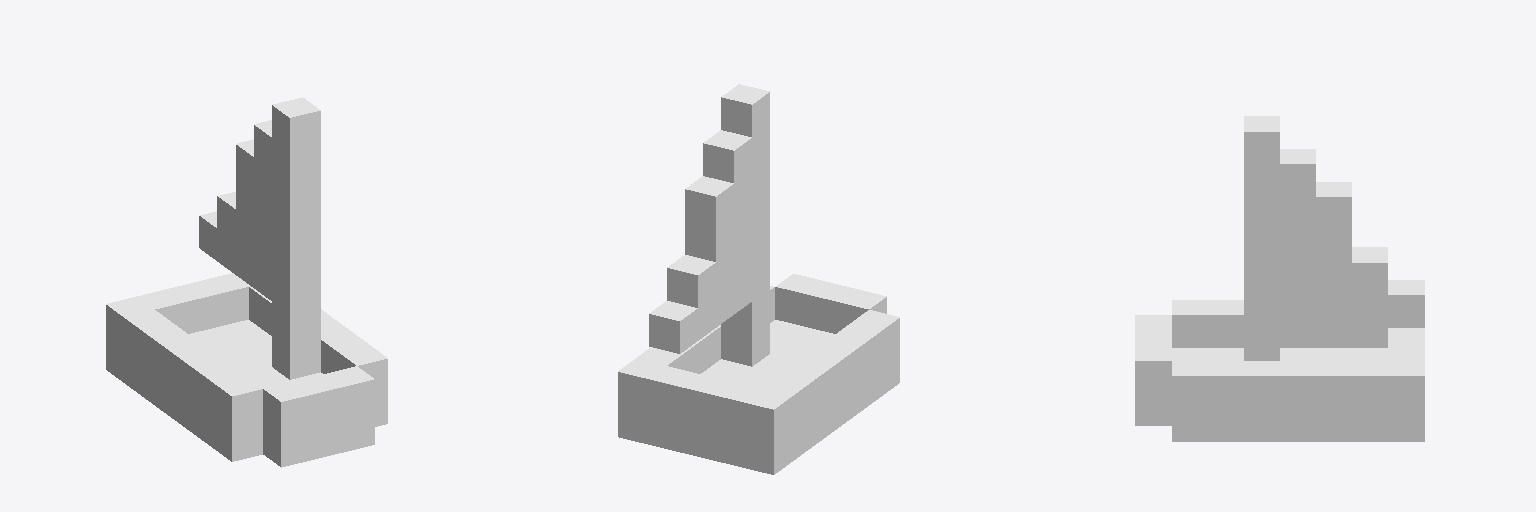
The model's file is smallBoat.obj.
3 renders of one model, left to right at view 1: azimuth 30°, elevation 25°; view 2: azimuth 150°, elevation 25°; view 3: azimuth 270°, elevation 25°, orthographic.
Parts seen in each view (by area): view 1: object 1; view 2: object 1; view 3: object 1.
Part boxes in pixels (bbox=[...]): object 1: bbox=[106, 97, 387, 467]; object 1: bbox=[618, 84, 899, 474]; object 1: bbox=[1135, 116, 1424, 441].
Bounding box in the file's own units: 0.5 × 0.9 × 0.8.